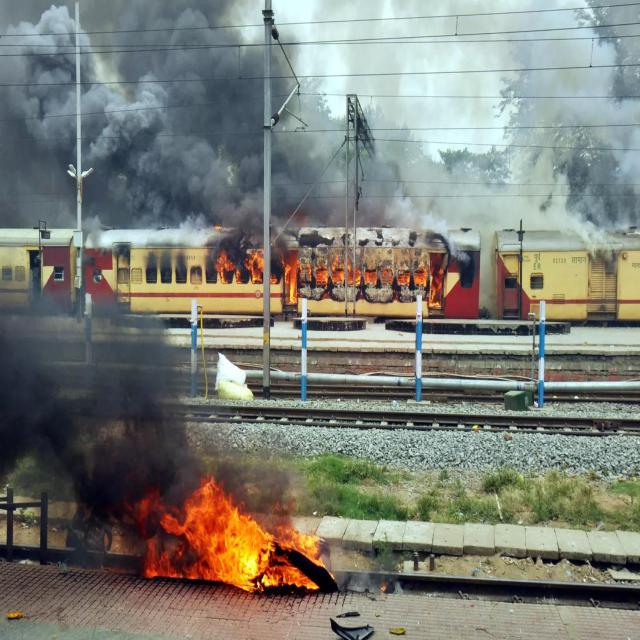fire: (195, 481, 323, 594)
smoke: (409, 162, 566, 233), (512, 5, 600, 106)
